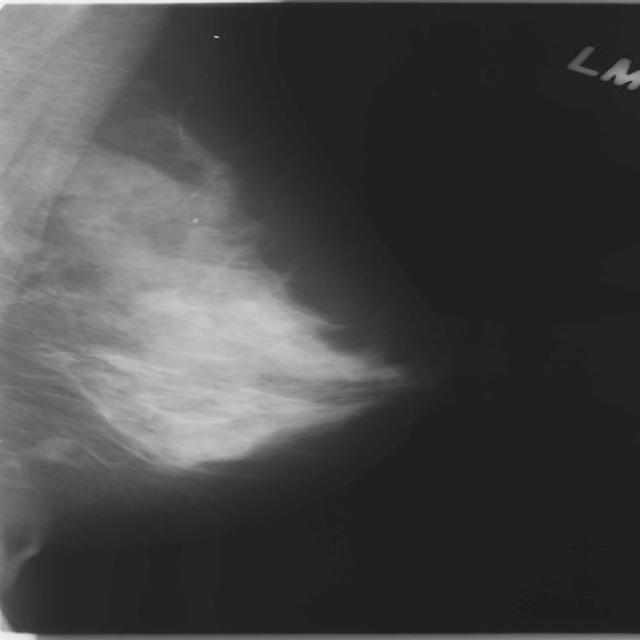tumour: (26, 435, 71, 462)
